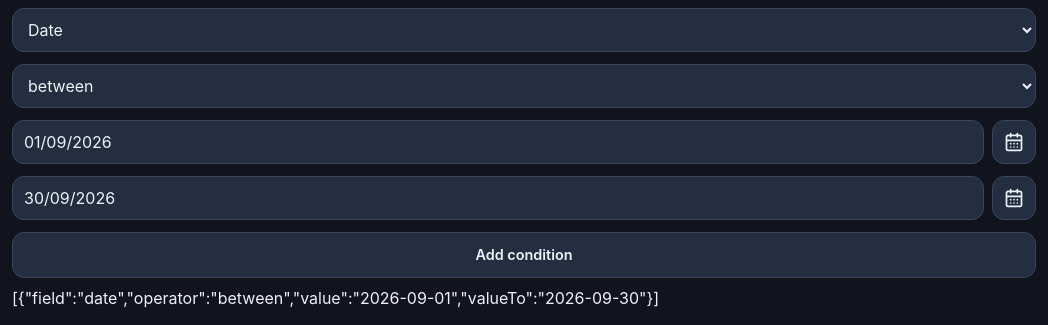
Test case: uses UK date entry for both range boundaries and clears an invalid boundary
Expected: the field named "Condition 1 range end" holds "30/09/2026", 12,176 -> 984,220
Replace the text in the field named "Condition 1 value" with "09012026" at (498, 142), box 12,120 -> 984,164
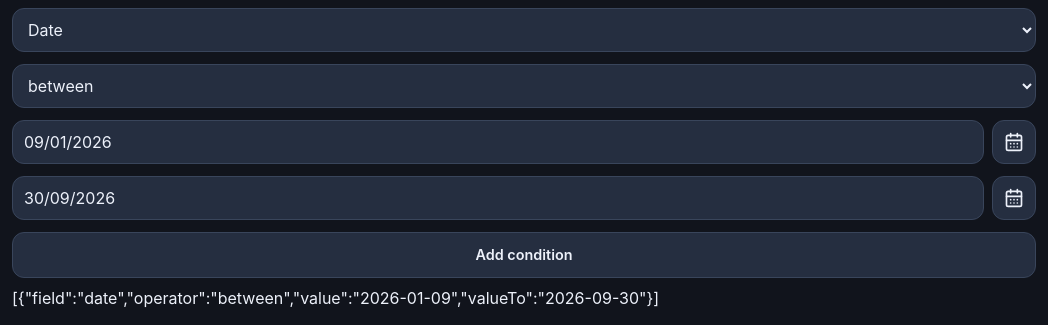
Now the field named "Condition 1 value" holds "09/01/2026", box 12,120 -> 984,164
Now the text named "Stored conditions" shows "\"value\":\"2026-01-09\"", box 12,288 -> 659,308
Replace the text in the field named "Condition 1 range end" with "31/04/2026" at (498, 198), box 12,176 -> 984,220
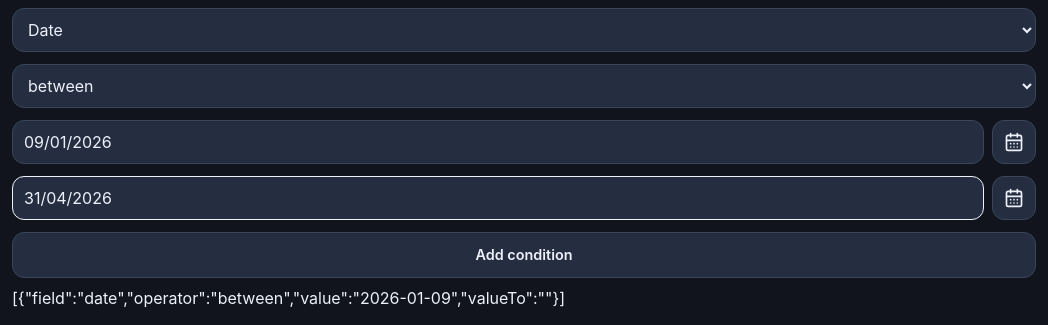
Now the text named "Stored conditions" shows "\"valueTo\":\"\"", box 12,288 -> 565,308
